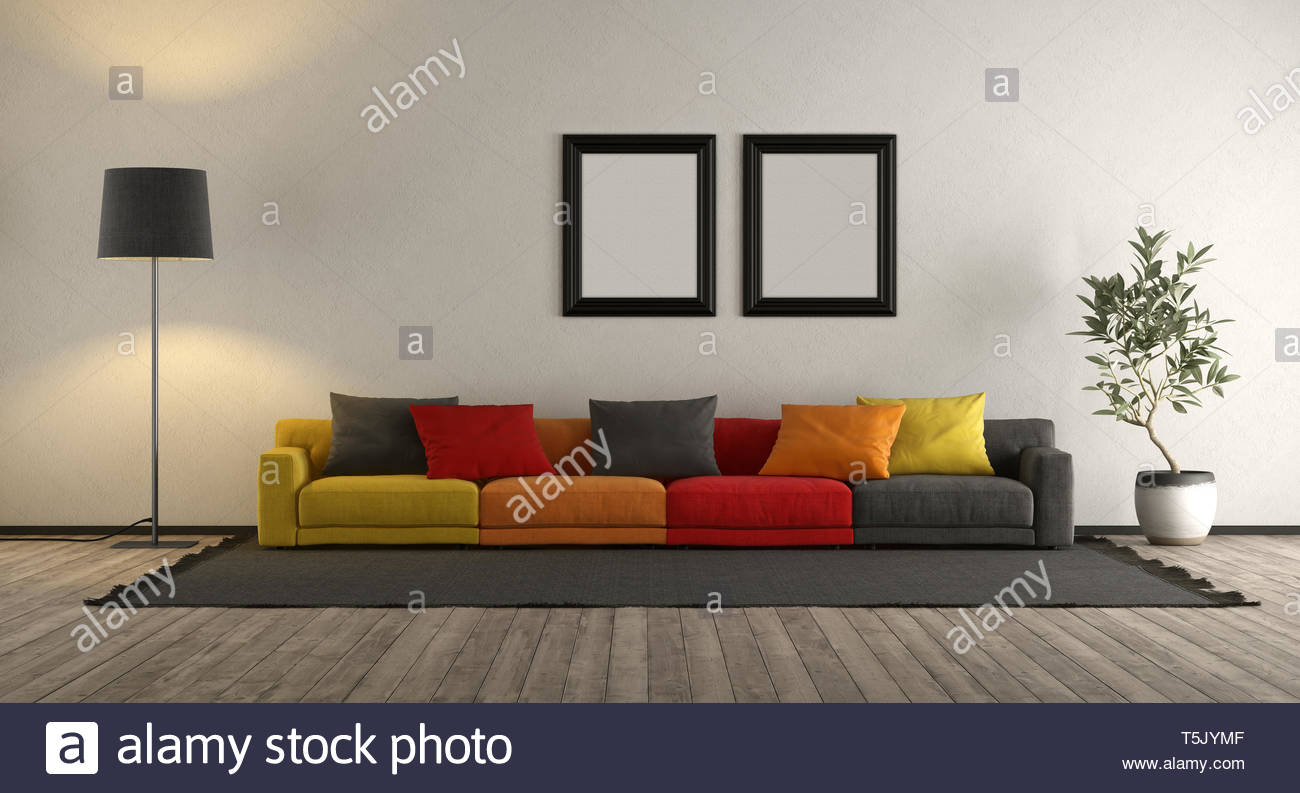hitam: (858, 483, 1072, 543), (100, 167, 213, 258), (591, 398, 714, 473)
kuning: (259, 473, 477, 541), (885, 396, 987, 478)
merah: (671, 478, 853, 543), (410, 403, 551, 478)
orange: (478, 481, 662, 540), (777, 405, 890, 475)
